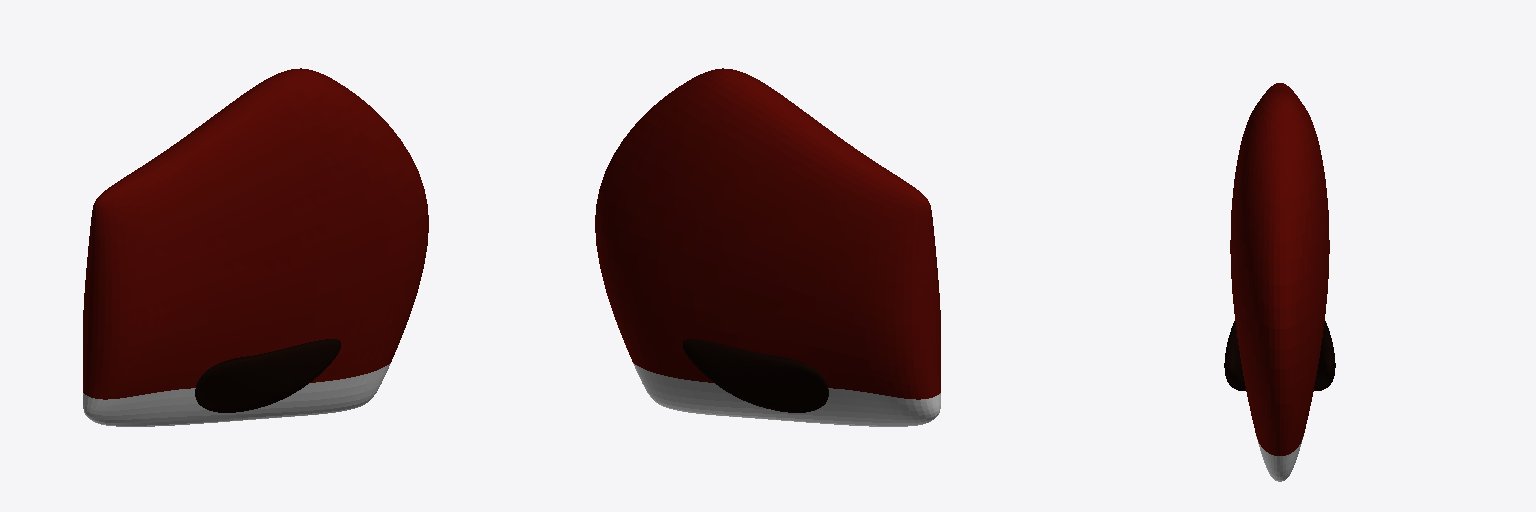
Rendered from salmonTop.obj.
3 renders of one model, left to right at view 1: azimuth 30°, elevation 25°; view 2: azimuth 150°, elevation 25°; view 3: azimuth 270°, elevation 25°, orthographic.
Visible parts, largest first — view 1: Cube.002; view 2: Cube.002; view 3: Cube.002.
Boxes of the visible parts, x1,y1,x2,y2 form: Cube.002: [83, 68, 428, 426]; Cube.002: [595, 68, 940, 426]; Cube.002: [1224, 83, 1335, 481].
Bounding box in the file's own units: 1.05 × 1.03 × 0.2958.